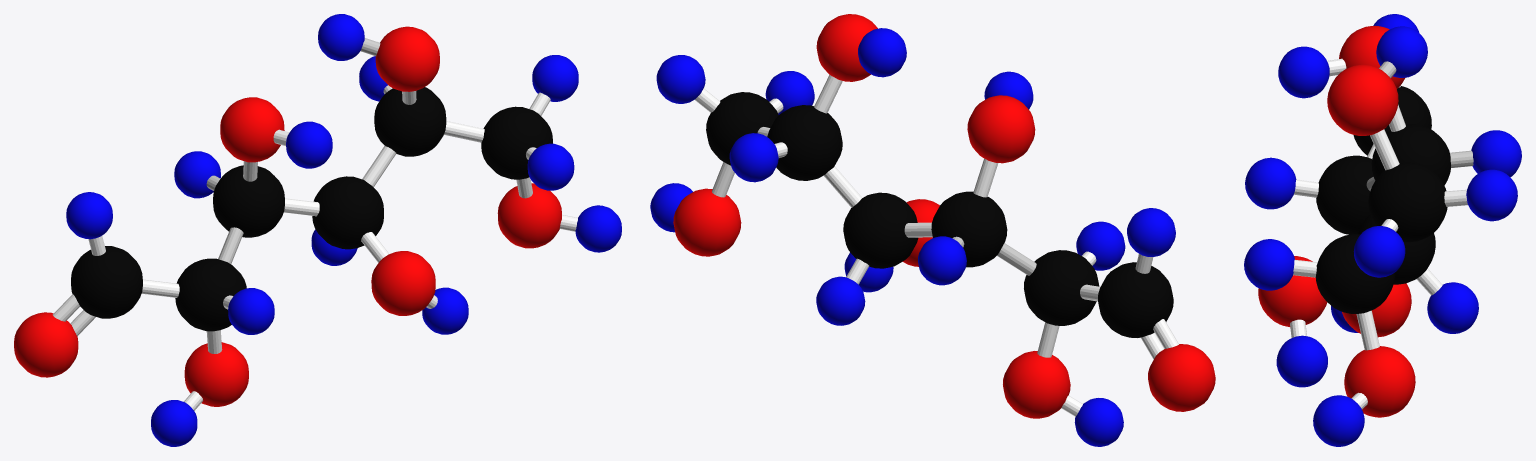
File: glicose.obj
3 views of the same model, side by side, from view 1: azimuth 30°, elevation 25°; view 2: azimuth 150°, elevation 25°; view 3: azimuth 270°, elevation 25° (orthographic). The views are drawn at different scales.
Visible parts, largest first — view 1: Shape_Sphere.024_Shape_Sphere.025, Shape_Sphere.027_Shape_Sphere.028, Shape_Sphere.026_Shape_Sphere.027, Shape_Sphere.028_Shape_Sphere.029, Shape_Sphere.025_Shape_Sphere.026, Shape_Sphere.029_Shape_Sphere.030, Shape_Sphere.038_Shape_Sphere.039, Shape_Sphere.041_Shape_Sphere.042, Shape_Sphere.030_Shape_Sphere.031, Shape_Sphere.035_Shape_Sphere.036, Shape_Sphere.032_Shape_Sphere.033, Shape_Sphere.044_Shape_Sphere.045 (+12 smaller); view 2: Shape_Sphere.024_Shape_Sphere.025, Shape_Sphere.027_Shape_Sphere.028, Shape_Sphere.025_Shape_Sphere.026, Shape_Sphere.028_Shape_Sphere.029, Shape_Sphere.026_Shape_Sphere.027, Shape_Sphere.035_Shape_Sphere.036, Shape_Sphere.030_Shape_Sphere.031, Shape_Sphere.044_Shape_Sphere.045, Shape_Sphere.032_Shape_Sphere.033, Shape_Sphere.029_Shape_Sphere.030, Shape_Sphere.041_Shape_Sphere.042, Shape_Sphere.042_Shape_Sphere.043 (+12 smaller); view 3: Shape_Sphere.028_Shape_Sphere.029, Shape_Sphere.041_Shape_Sphere.042, Shape_Sphere.029_Shape_Sphere.030, Shape_Sphere.044_Shape_Sphere.045, Shape_Sphere.025_Shape_Sphere.026, Shape_Sphere.026_Shape_Sphere.027, Shape_Sphere.038_Shape_Sphere.039, Shape_Sphere.037_Shape_Sphere.038, Shape_Sphere.047_Shape_Sphere, Shape_Sphere.046_Shape_Sphere.047, Shape_Sphere.042_Shape_Sphere.043, Shape_Sphere.040_Shape_Sphere.041 (+14 smaller).
Boxes of the visible parts, box(x1,y1,x2,y2) form: Shape_Sphere.024_Shape_Sphere.025: box(71, 246, 142, 318); Shape_Sphere.027_Shape_Sphere.028: box(312, 176, 383, 249); Shape_Sphere.026_Shape_Sphere.027: box(213, 165, 284, 237); Shape_Sphere.028_Shape_Sphere.029: box(374, 87, 446, 156); Shape_Sphere.025_Shape_Sphere.026: box(175, 258, 246, 331); Shape_Sphere.029_Shape_Sphere.030: box(481, 106, 552, 179); Shape_Sphere.038_Shape_Sphere.039: box(371, 251, 435, 315); Shape_Sphere.041_Shape_Sphere.042: box(375, 26, 439, 91); Shape_Sphere.030_Shape_Sphere.031: box(14, 312, 78, 377); Shape_Sphere.035_Shape_Sphere.036: box(220, 97, 284, 162); Shape_Sphere.032_Shape_Sphere.033: box(184, 342, 248, 406); Shape_Sphere.044_Shape_Sphere.045: box(497, 183, 561, 248); Shape_Sphere.024_Shape_Sphere.025: box(1098, 262, 1173, 337); Shape_Sphere.027_Shape_Sphere.028: box(843, 192, 918, 268); Shape_Sphere.025_Shape_Sphere.026: box(1024, 250, 1099, 325); Shape_Sphere.028_Shape_Sphere.029: box(767, 105, 842, 180); Shape_Sphere.026_Shape_Sphere.027: box(931, 191, 1007, 267); Shape_Sphere.035_Shape_Sphere.036: box(967, 95, 1035, 163); Shape_Sphere.030_Shape_Sphere.031: box(1148, 344, 1215, 411); Shape_Sphere.044_Shape_Sphere.045: box(673, 188, 741, 256); Shape_Sphere.032_Shape_Sphere.033: box(1003, 351, 1070, 418); Shape_Sphere.029_Shape_Sphere.030: box(706, 92, 778, 165); Shape_Sphere.041_Shape_Sphere.042: box(816, 14, 877, 81); Shape_Sphere.042_Shape_Sphere.043: box(729, 133, 778, 182); Shape_Sphere.028_Shape_Sphere.029: box(1368, 162, 1447, 242); Shape_Sphere.041_Shape_Sphere.042: box(1327, 64, 1398, 135); Shape_Sphere.029_Shape_Sphere.030: box(1315, 234, 1395, 313); Shape_Sphere.044_Shape_Sphere.045: box(1344, 346, 1415, 417); Shape_Sphere.025_Shape_Sphere.026: box(1316, 155, 1373, 234); Shape_Sphere.026_Shape_Sphere.027: box(1371, 124, 1450, 185); Shape_Sphere.038_Shape_Sphere.039: box(1258, 256, 1327, 326); Shape_Sphere.037_Shape_Sphere.038: box(1278, 46, 1329, 98); Shape_Sphere.047_Shape_Sphere: box(1313, 395, 1364, 446); Shape_Sphere.046_Shape_Sphere.047: box(1353, 226, 1405, 277); Shape_Sphere.042_Shape_Sphere.043: box(1466, 169, 1517, 221); Shape_Sphere.040_Shape_Sphere.041: box(1276, 335, 1327, 387).
Size of the model in its own units: 9.15 by 5.65 by 3.54.
